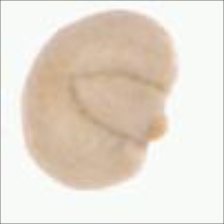L5: (65, 68, 170, 147)
L6: (17, 7, 178, 191)
